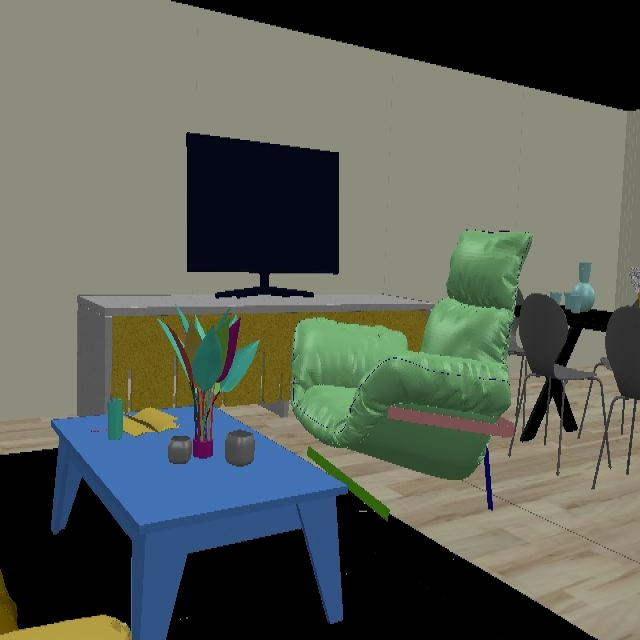chair: (519, 293, 602, 443), (605, 300, 640, 401)
monitor: (185, 133, 340, 292)
sofa: (291, 231, 533, 481), (0, 571, 132, 640)
table: (52, 409, 346, 640), (539, 307, 614, 431)
